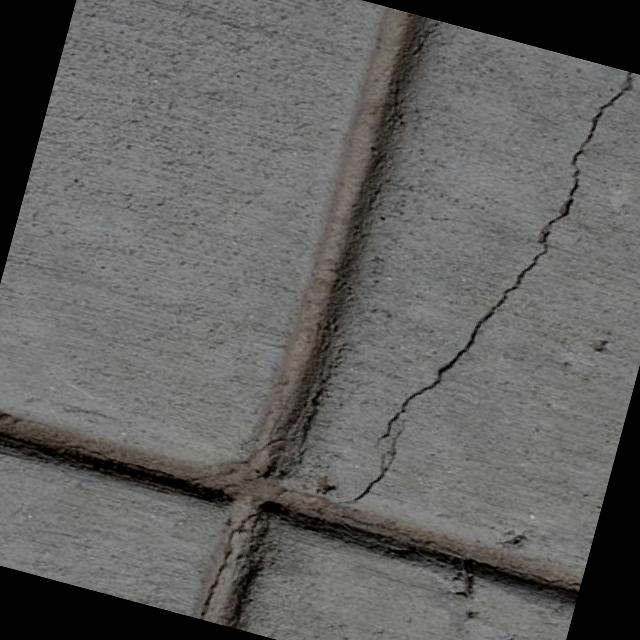crack: (338, 30, 638, 547)
